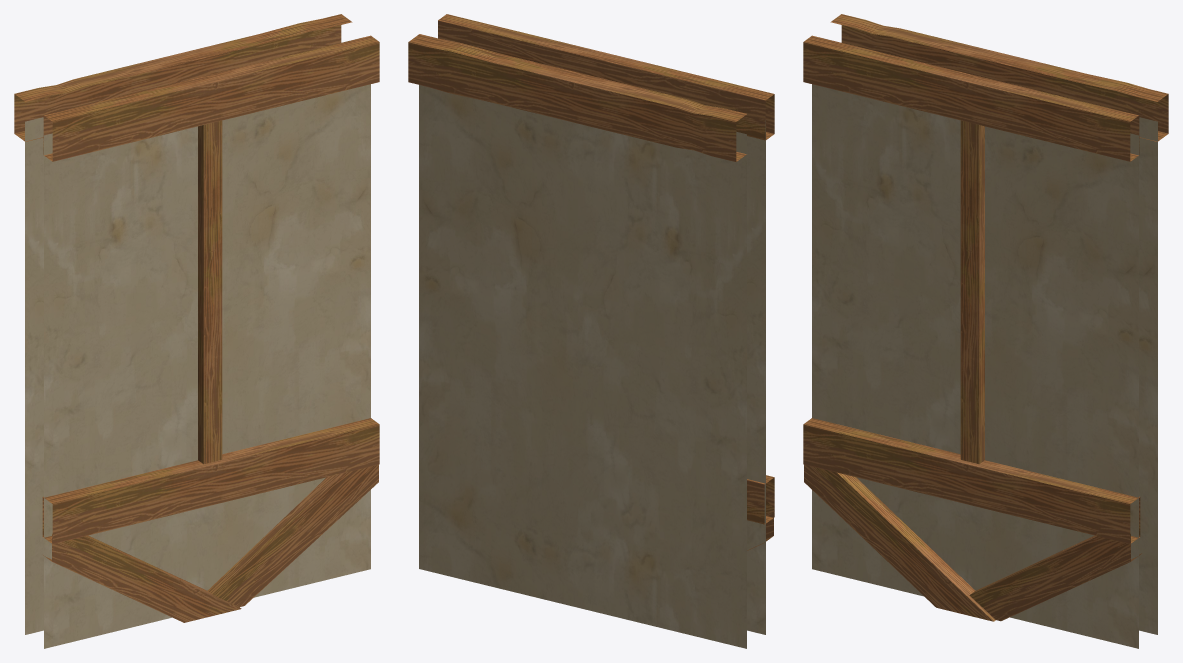
Rendered from Wall_Plaster_Straight.gltf.
3 renders of one model, left to right at view 1: azimuth 30°, elevation 25°; view 2: azimuth 150°, elevation 25°; view 3: azimuth 330°, elevation 25°, orthographic.
Parts seen in each view (by area): view 1: Wall_Plaster_Straight; view 2: Wall_Plaster_Straight; view 3: Wall_Plaster_Straight.
Part boxes in pixels (<box>): Wall_Plaster_Straight: <box>14,14,379,648</box>; Wall_Plaster_Straight: <box>408,14,774,648</box>; Wall_Plaster_Straight: <box>803,14,1168,648</box>.
Bounding box in the file's own units: 2 × 3.12 × 0.4065.
2 materials, 2 textured.
